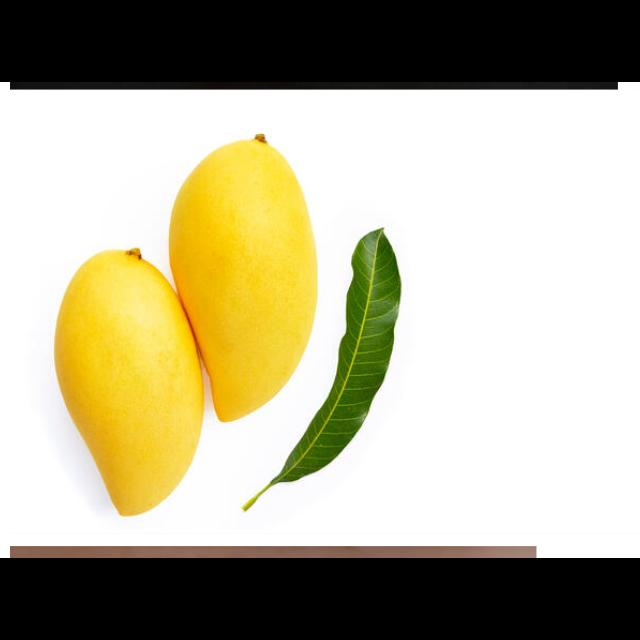mango: (169, 131, 317, 423), (55, 247, 205, 516)
